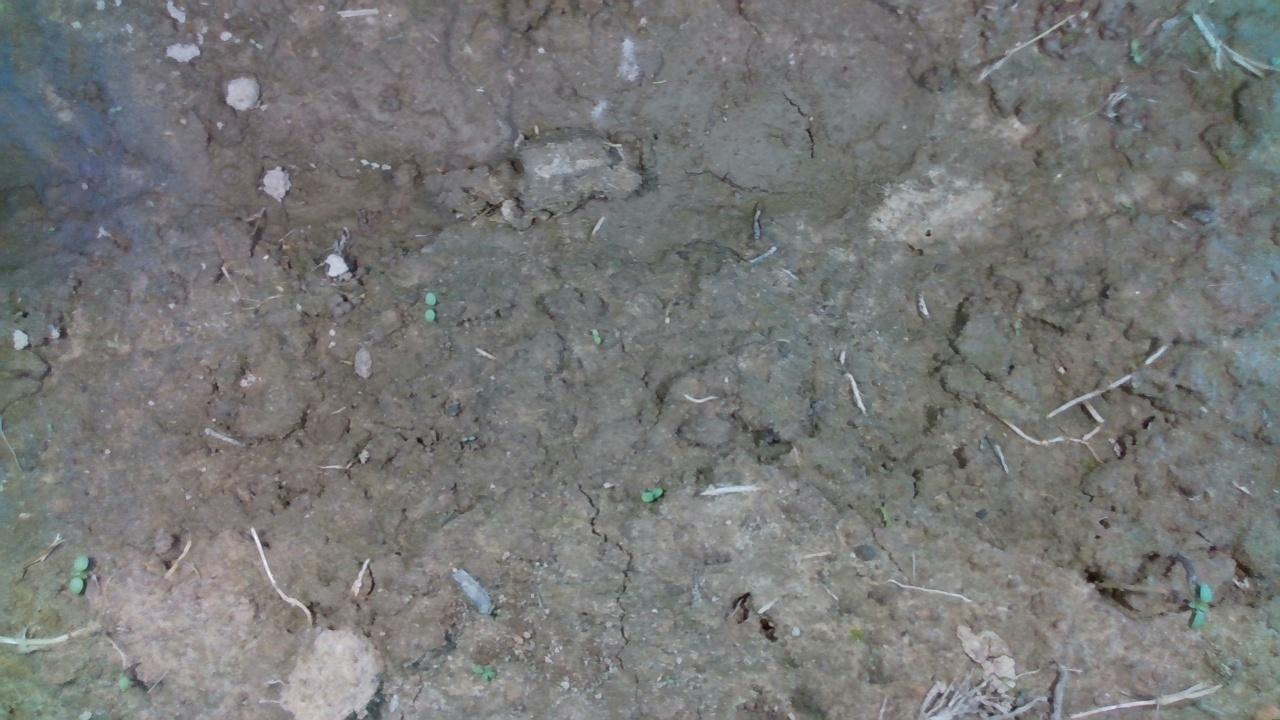weed: (1189, 576, 1220, 625), (62, 551, 92, 596), (466, 658, 508, 688), (638, 480, 668, 504), (416, 287, 436, 319), (583, 322, 598, 345)
